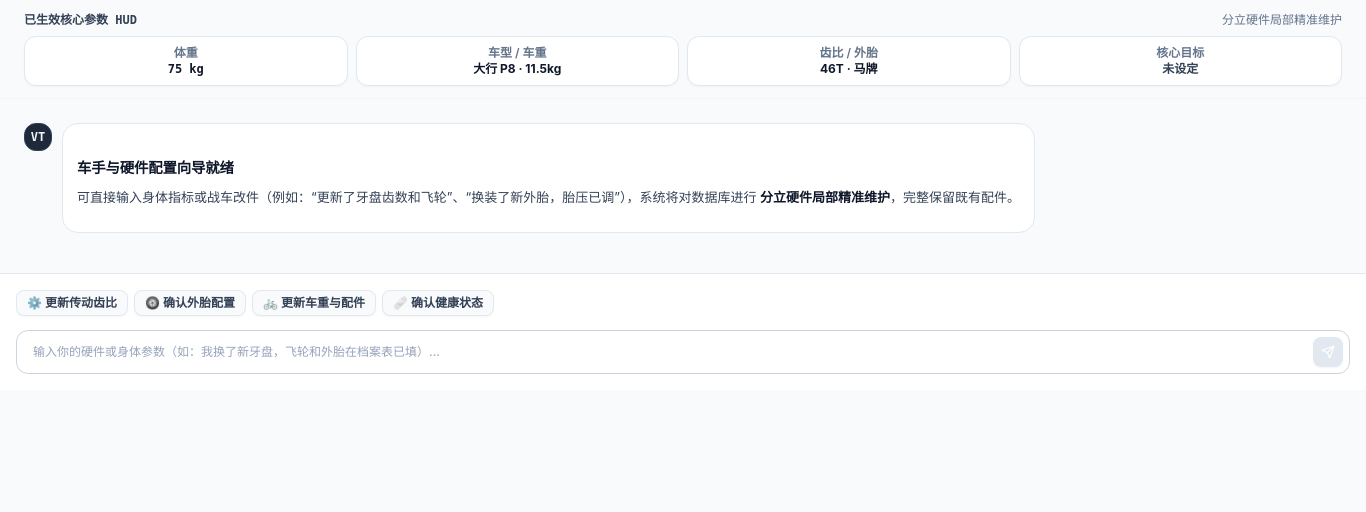
Test: InterviewTab AI 访谈 › 请求进行中展示加载提示且输入框禁用
Step 1. Type "改件" into the field with placeholder "输入你的硬件或身体参数（如：我换了新牙盘，飞轮和外胎在档案表已填）..." → point(668, 352), box 23,340 -> 1313,364
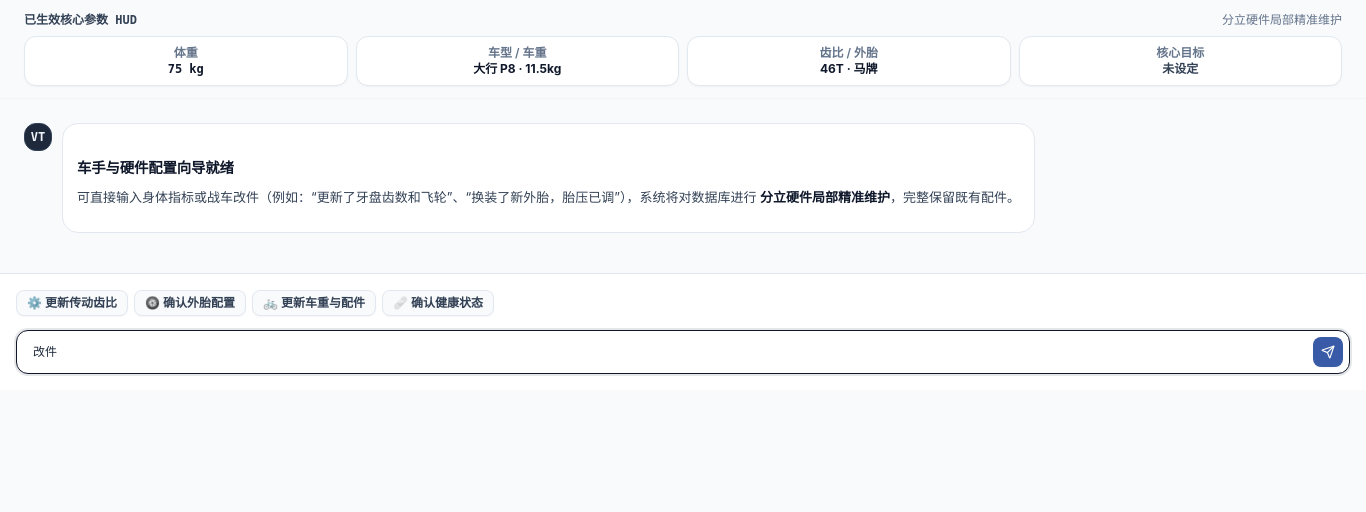
Step 2. Press Enter
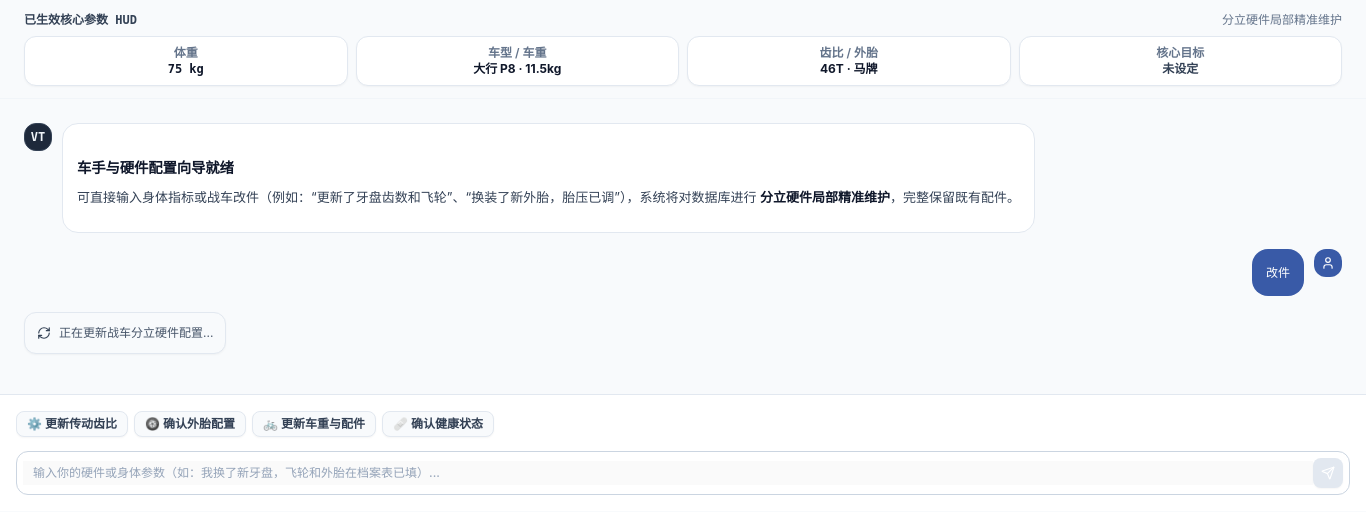
Expected: the text "正在更新战车分立硬件配置..." is shown, 59,325 -> 213,341
Expected: the field with placeholder "输入你的硬件或身体参数（如：我换了新牙盘，飞轮和外胎在档案表已填）..." is disabled, 23,461 -> 1313,485
